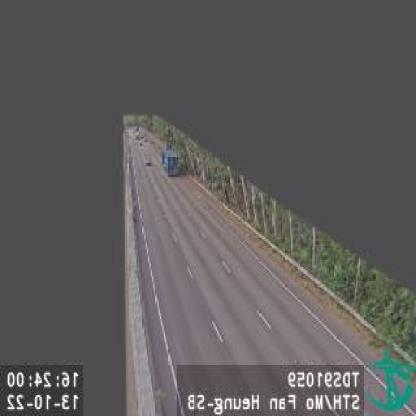Truck: (163, 149, 181, 177)
